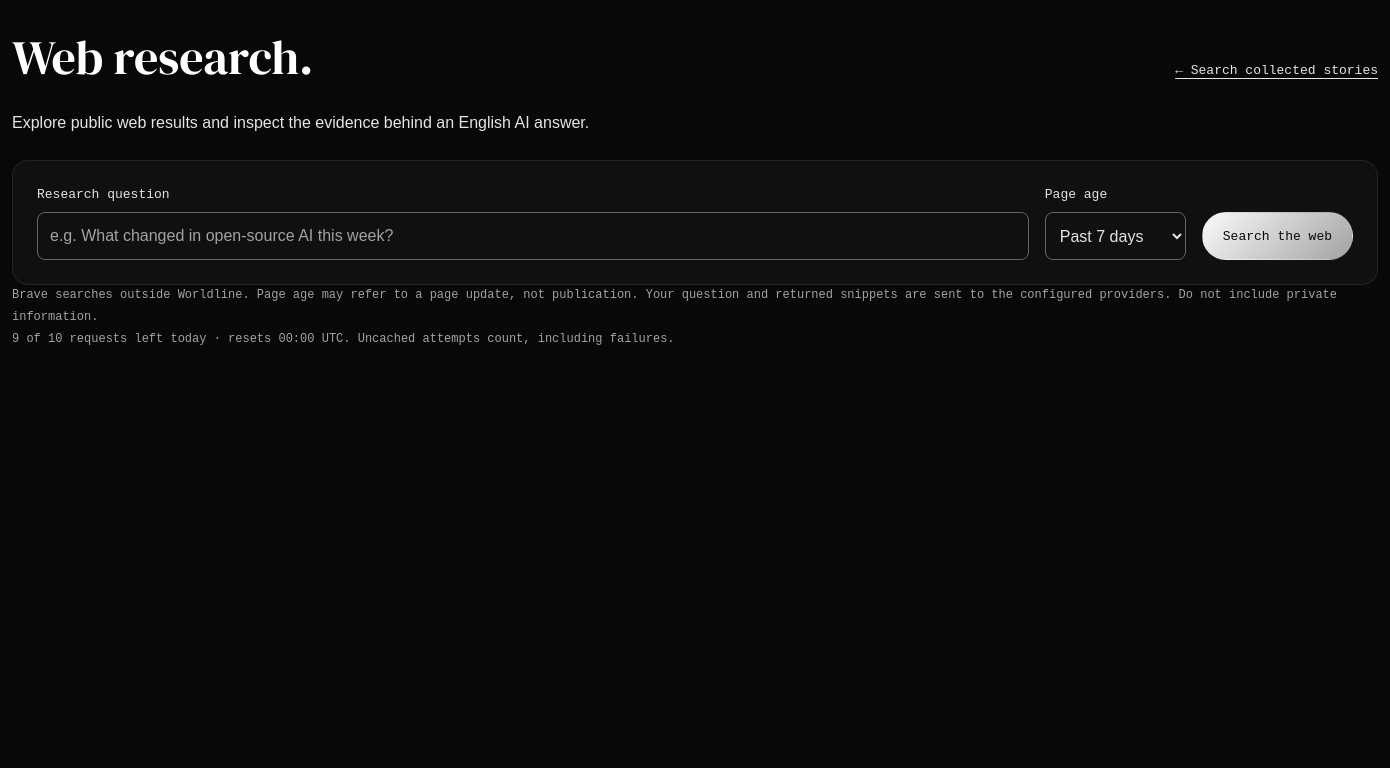
Test: keeps sources visible when the model fails and does not claim generated success
Type "What does the trial show?" into the field labelled "Research question" at (533, 236), box 37,212 -> 1029,260
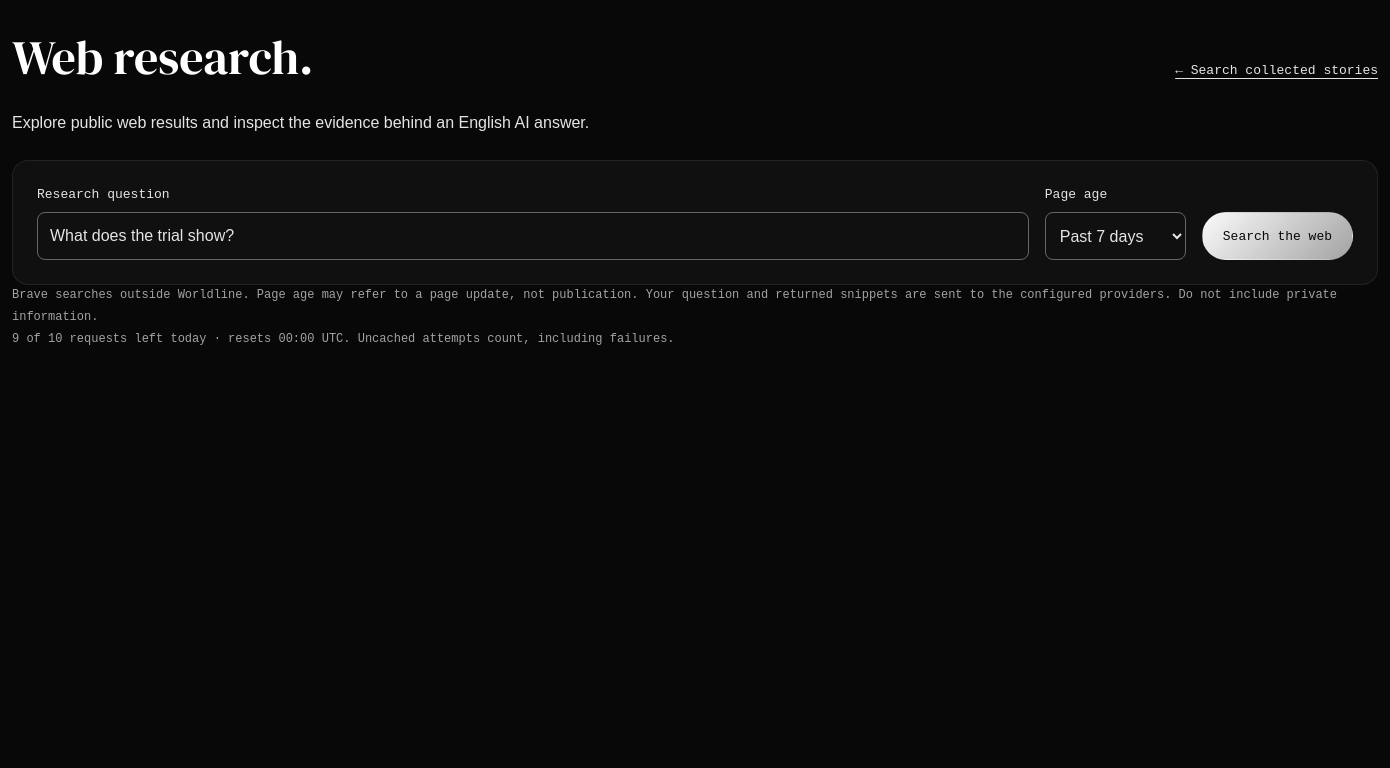
Click the button "Search the web" at (1277, 236), box 1202,212 -> 1353,260
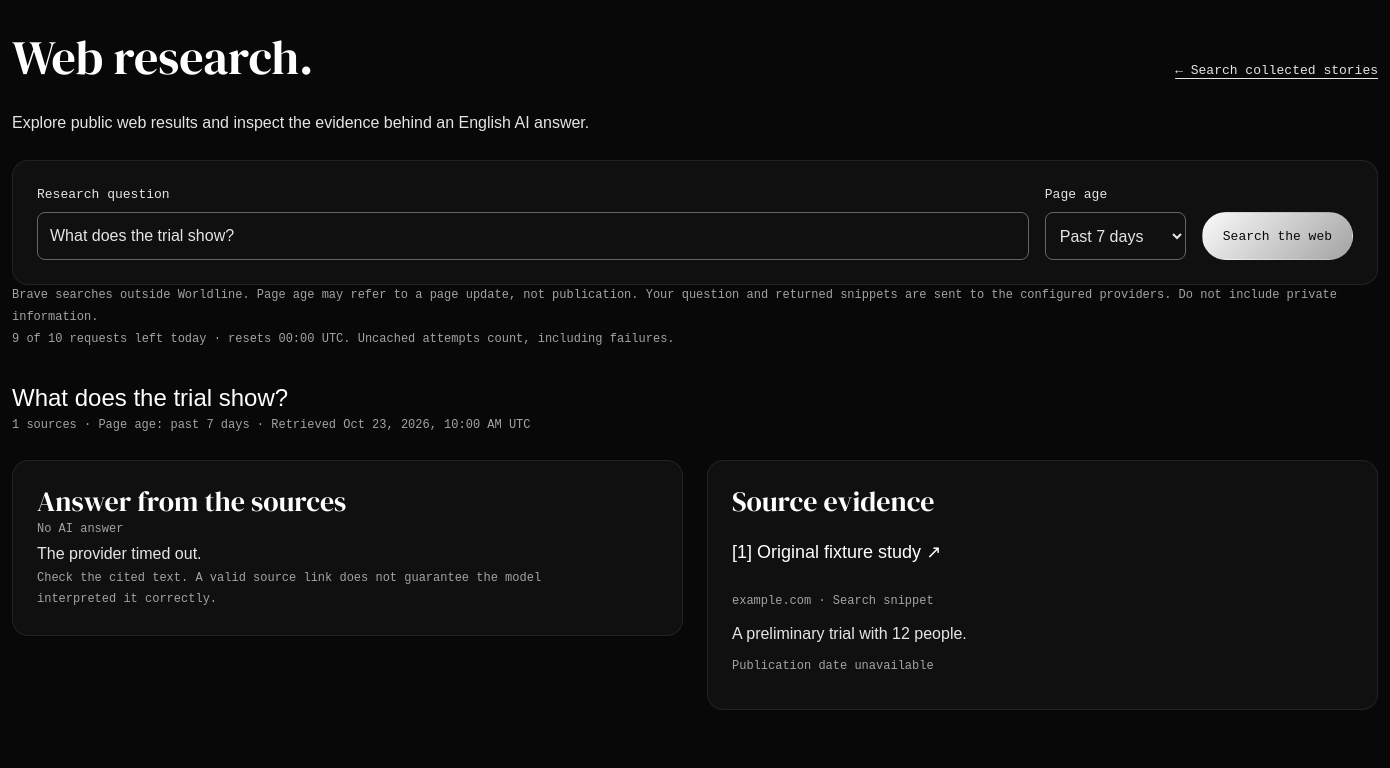
Expected: the text "The provider timed out." is shown, 37,545 -> 202,562
Expected: the text "No AI answer" is shown, 37,522 -> 123,536
Expected: the link "[1] Original fixture study ↗" is shown, 732,541 -> 1103,562
